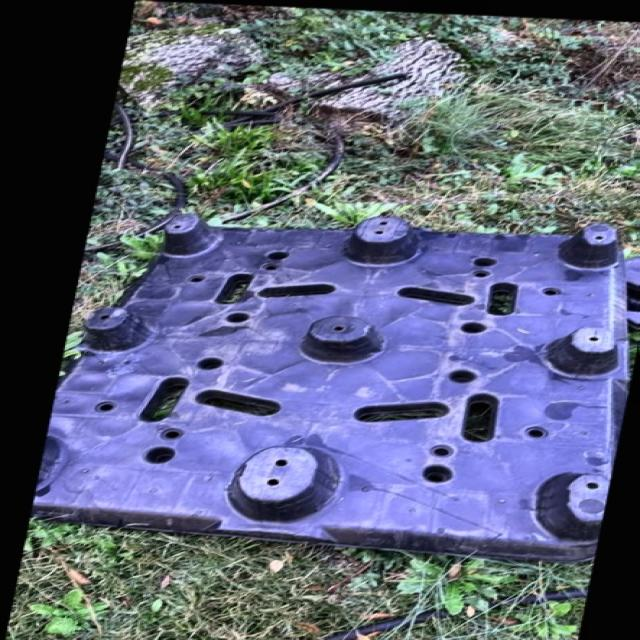non-igps: (0, 210, 640, 572)
